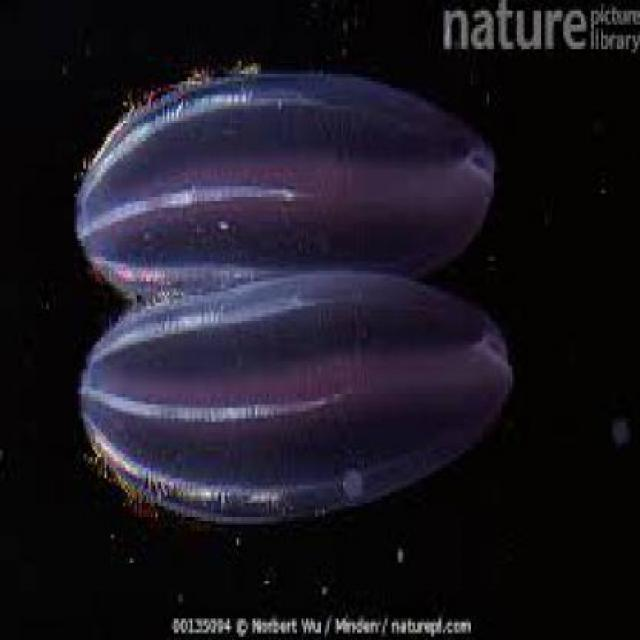Jellyfish: (71, 264, 518, 521), (64, 59, 502, 299)
